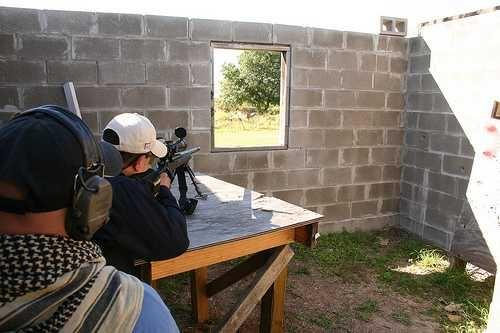heavyweapon: (123, 121, 210, 229)
